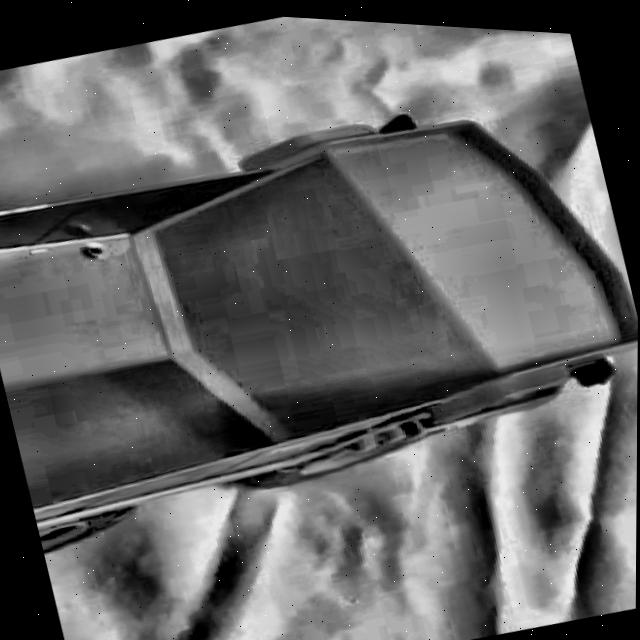dump_truck: (0, 39, 640, 583)
